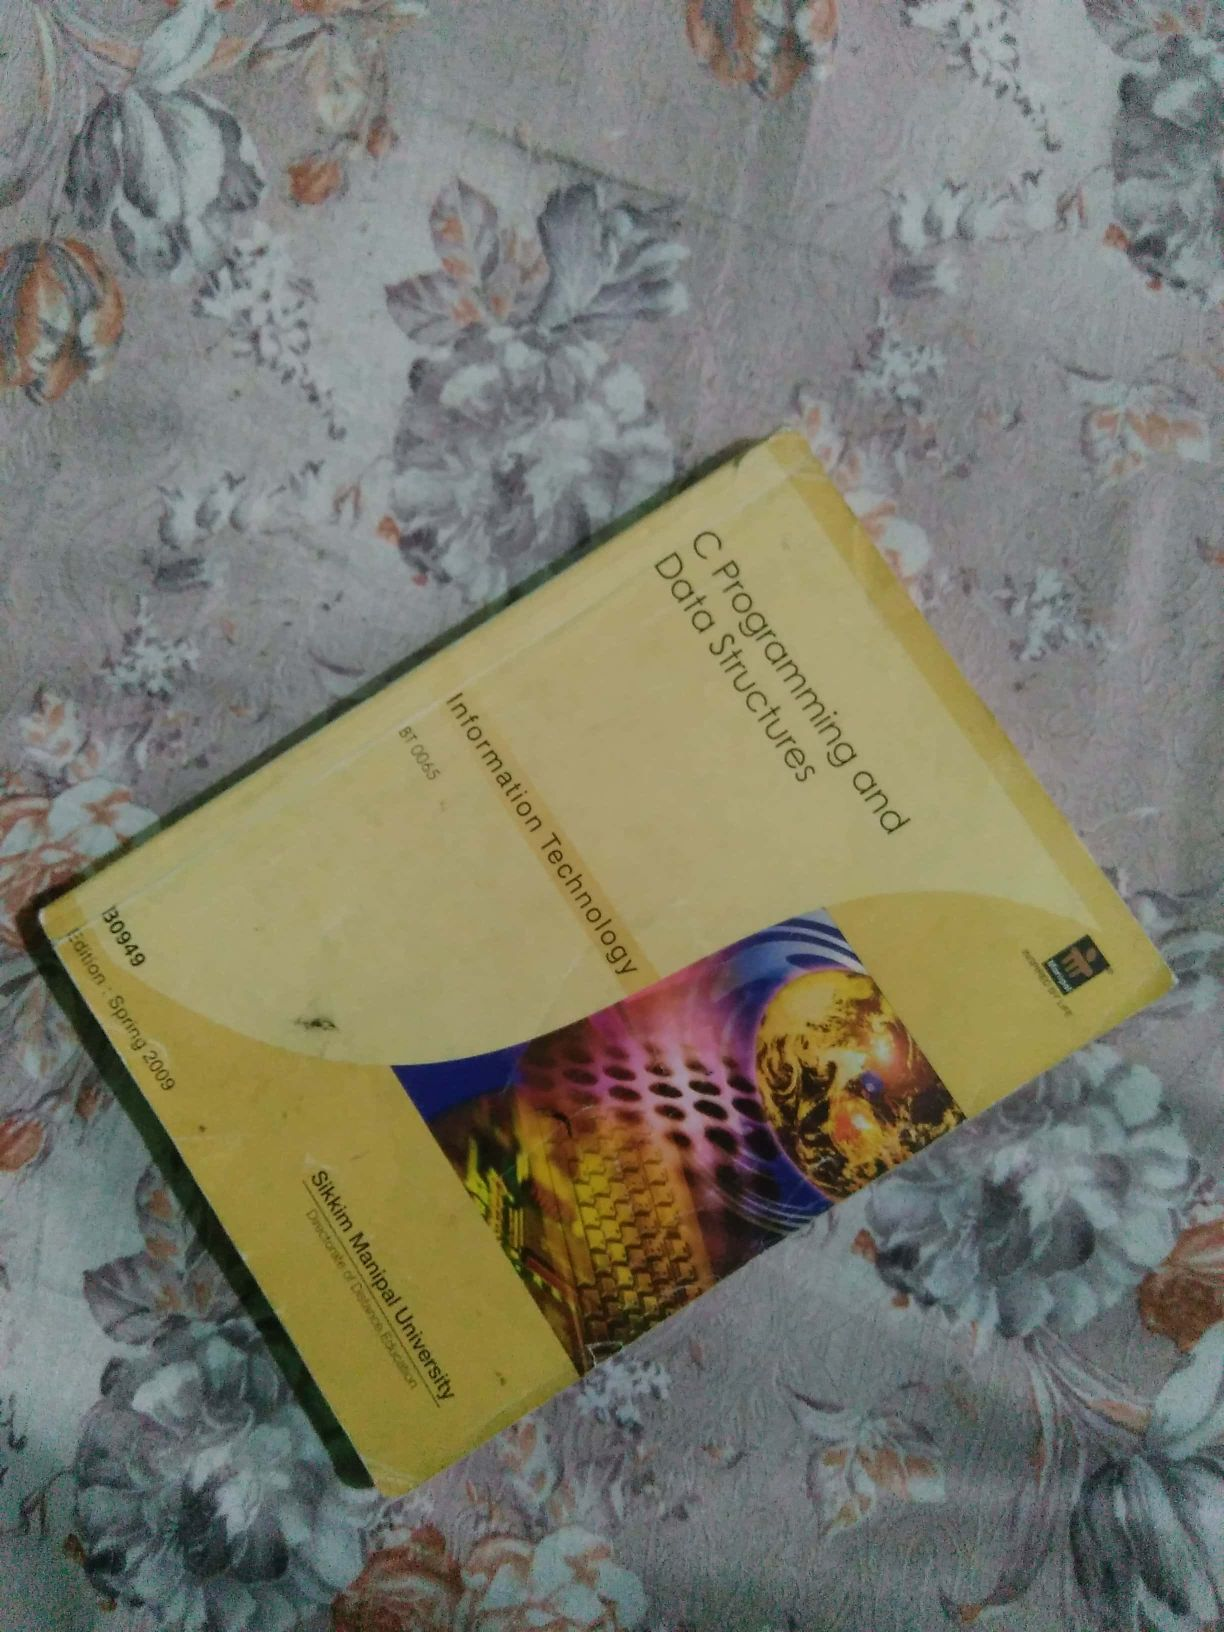clang: (77, 378, 1095, 1456)
